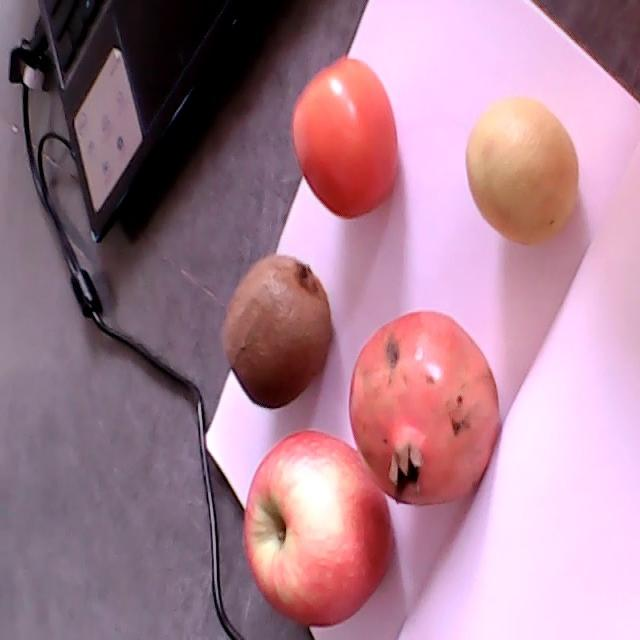apple: (244, 430, 393, 626)
kiwi: (222, 256, 331, 408)
lemon: (465, 96, 579, 244)
pomegranate: (349, 310, 501, 507)
tomato: (292, 57, 398, 219)
